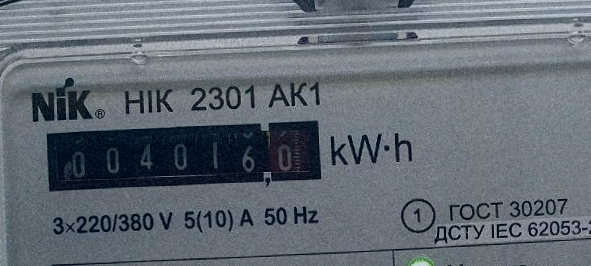0: (169, 138, 191, 174), (68, 146, 90, 180), (102, 142, 122, 177), (273, 140, 294, 173)
1: (207, 136, 223, 171)
4: (136, 138, 155, 173)
6: (237, 140, 257, 173)
screen: (39, 113, 330, 199)
